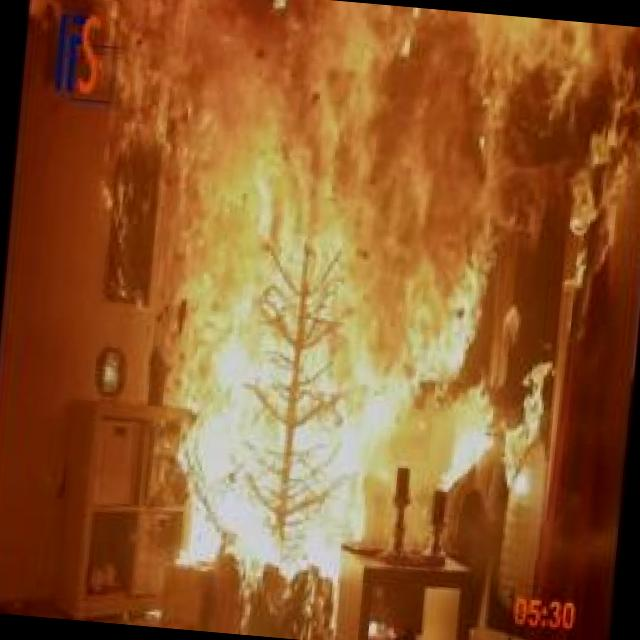fire: (15, 0, 640, 611)
